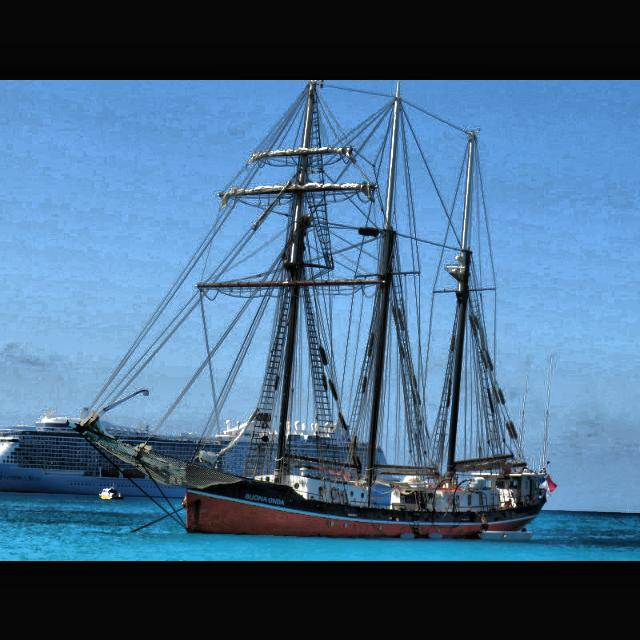sailing_vessel: (64, 80, 548, 540)
